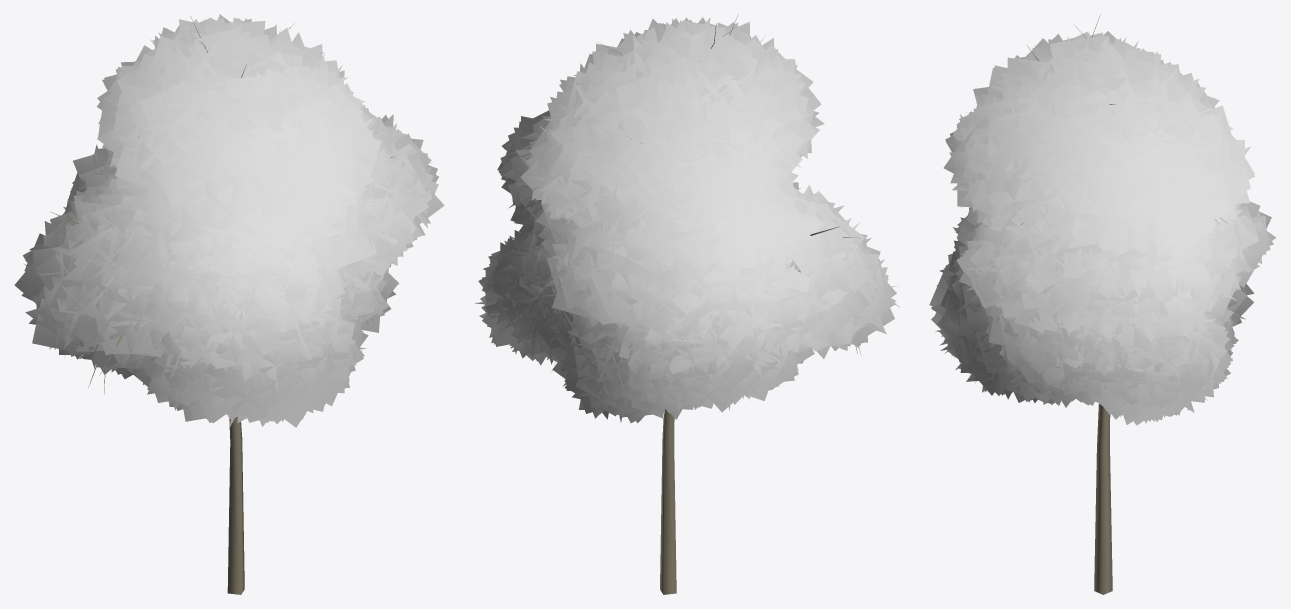
Rendered from Tree_LOD0.fbx.
The picture shows the model from 3 angles, left to right: view 1: azimuth 30°, elevation 25°; view 2: azimuth 150°, elevation 25°; view 3: azimuth 270°, elevation 25°; orthographic projection. The views are drawn at different scales.
Visible parts, largest first — view 1: Leaves_LOD0, NormalTrunk; view 2: Leaves_LOD0, NormalTrunk; view 3: Leaves_LOD0, NormalTrunk.
Part boxes in pixels (x1=…): Leaves_LOD0: x1=14, y1=14, x2=444, y2=427; NormalTrunk: x1=50, y1=16, x2=395, y2=594; Leaves_LOD0: x1=475, y1=17, x2=897, y2=423; NormalTrunk: x1=526, y1=14, x2=899, y2=594; Leaves_LOD0: x1=929, y1=31, x2=1276, y2=425; NormalTrunk: x1=1021, y1=14, x2=1226, y2=594.
Size of the model in its own units: 637 by 915 by 519.
